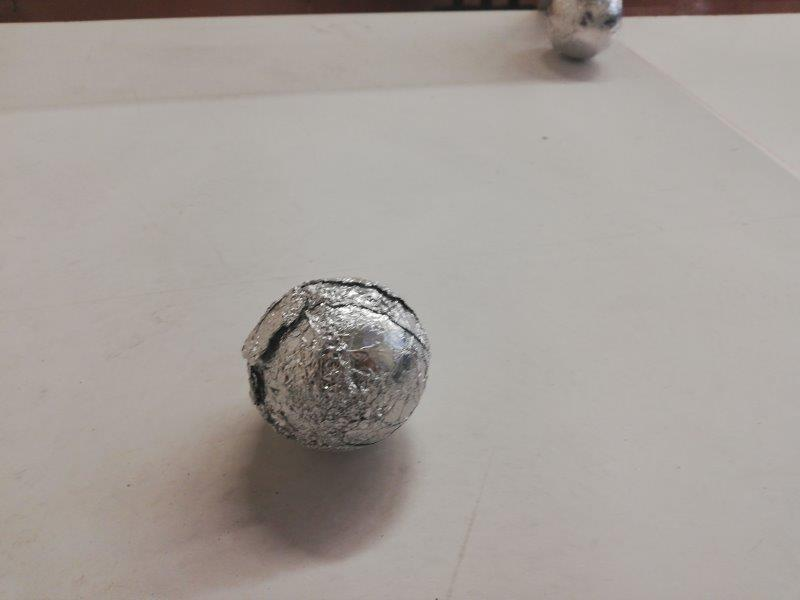bianca: (241, 274, 432, 452), (546, 1, 624, 61)
